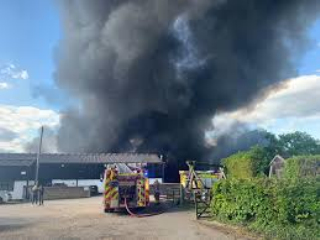smoke: (48, 7, 297, 154)
